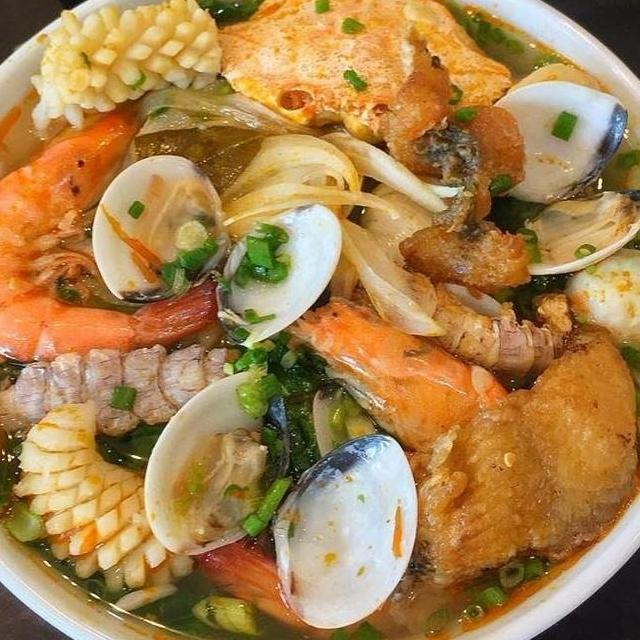bun hai san: (0, 0, 640, 640)
ca: (404, 314, 640, 593), (375, 57, 539, 295)
muc: (7, 393, 199, 601), (23, 0, 226, 137)
tom: (185, 290, 530, 640), (0, 78, 232, 370)
tom tit: (0, 336, 275, 449), (335, 264, 580, 381)
